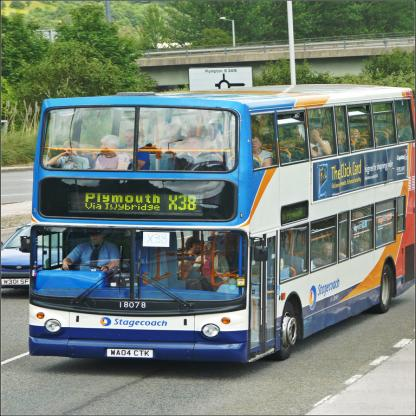Car: (1, 217, 63, 290)
